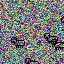sheep: (11, 37, 25, 48), (44, 33, 58, 44), (51, 39, 64, 50), (25, 57, 39, 64)
